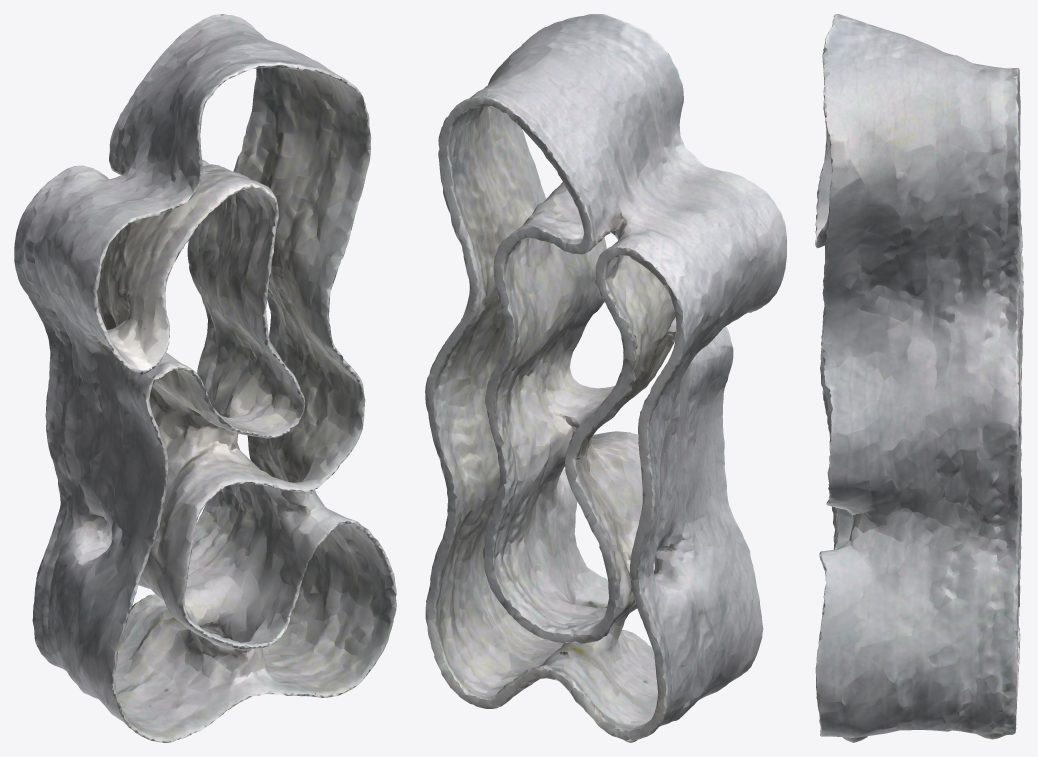
The picture shows the model from 3 angles, left to right: view 1: azimuth 30°, elevation 25°; view 2: azimuth 150°, elevation 25°; view 3: azimuth 270°, elevation 25°; orthographic projection. The views are drawn at different scales.
Visible parts, largest first — view 1: mmGroup0; view 2: mmGroup0; view 3: mmGroup0.
Boxes of the visible parts, bbox=[...] form: mmGroup0: bbox=[14, 14, 396, 742]; mmGroup0: bbox=[425, 14, 786, 742]; mmGroup0: bbox=[815, 14, 1023, 742].
Bounding box in the file's own units: 5.05 × 10.61 × 2.93.
1 material, 1 textured.
